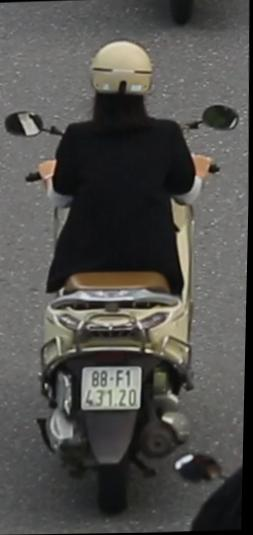LP: (79, 361, 146, 414)
helmet: (83, 31, 159, 133)
